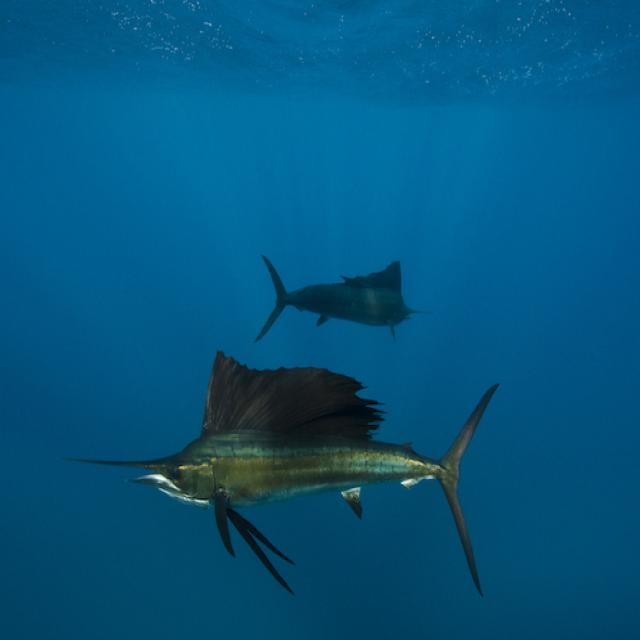Sail Fish: (62, 348, 502, 600), (251, 254, 438, 344)
